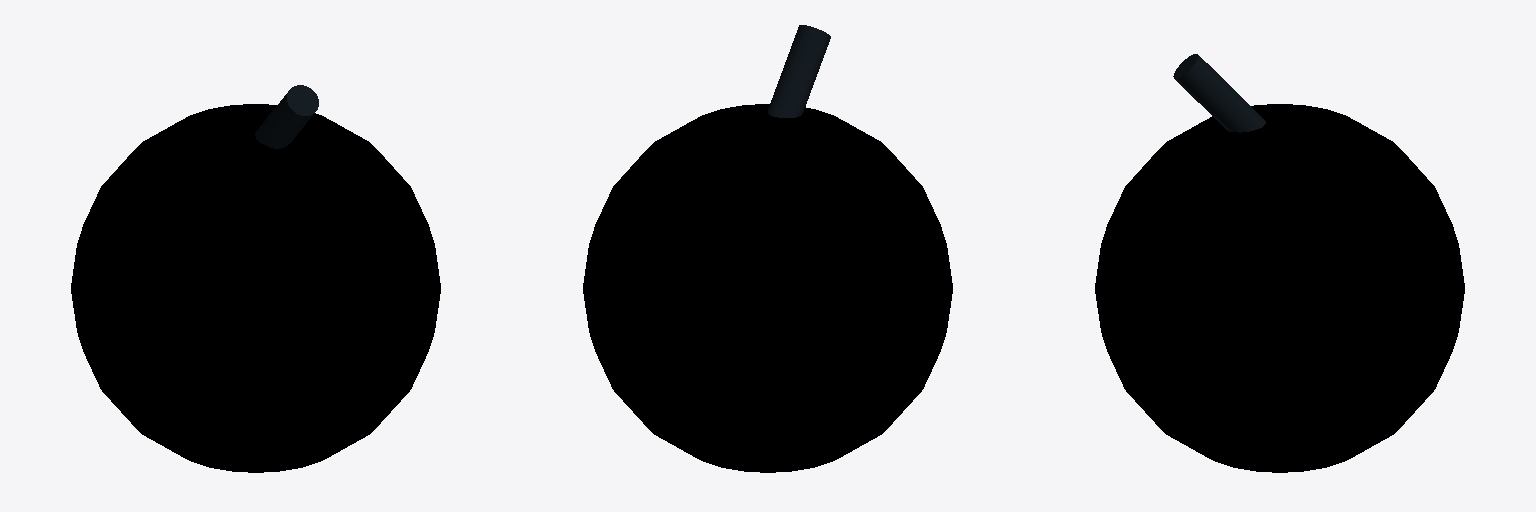
File: bomb.obj
The picture shows the model from 3 angles: view 1: azimuth 30°, elevation 25°; view 2: azimuth 150°, elevation 25°; view 3: azimuth 270°, elevation 25°; orthographic projection.
Visible parts, largest first — view 1: Sphere, Cylinder; view 2: Sphere, Cylinder; view 3: Sphere, Cylinder.
Boxes of the visible parts, x1,y1,x2,y2 form: Sphere: [71, 104, 440, 472]; Cylinder: [255, 85, 318, 148]; Sphere: [583, 104, 952, 472]; Cylinder: [767, 25, 830, 117]; Sphere: [1095, 104, 1464, 472]; Cylinder: [1173, 54, 1265, 132].
Bounding box in the file's own units: 47 × 56.05 × 47.